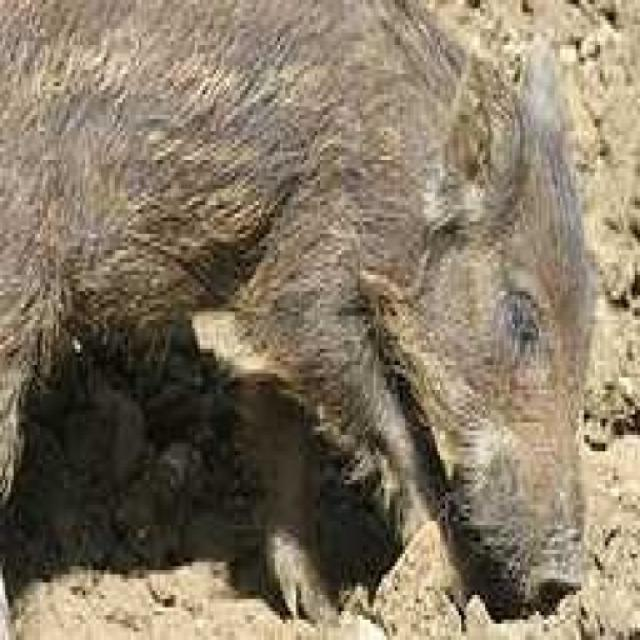pig: (1, 0, 618, 640)
